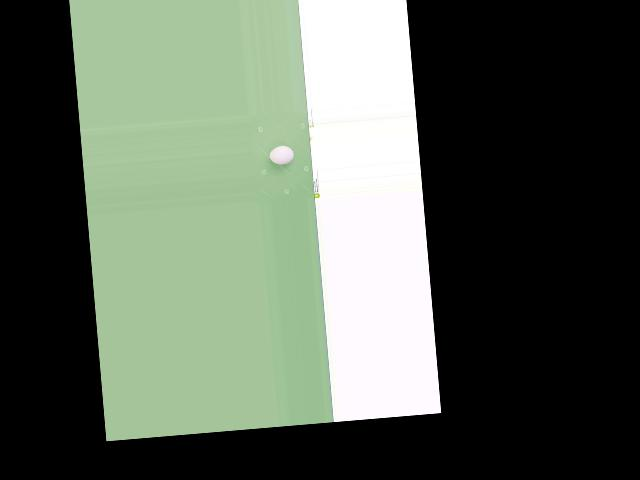egg: (269, 145, 294, 165)
